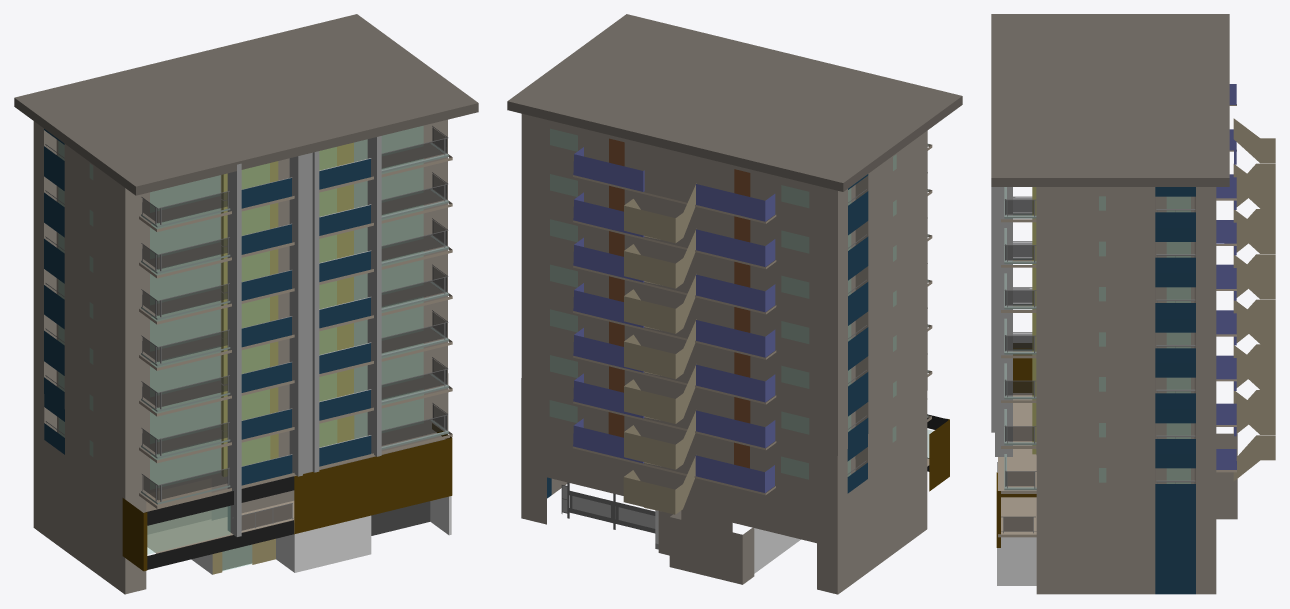
The model's file is Apartment_Axion_middle.fbx.
3 renders of one model, left to right at view 1: azimuth 30°, elevation 25°; view 2: azimuth 150°, elevation 25°; view 3: azimuth 270°, elevation 25°, orthographic. The views are drawn at different scales.
Visible parts, largest first — view 1: Mansion_Axion_Mid; view 2: Mansion_Axion_Mid; view 3: Mansion_Axion_Mid.
Part boxes in pixels (x1,y1,x2,y2): Mansion_Axion_Mid: [14, 14, 478, 594]; Mansion_Axion_Mid: [507, 14, 962, 594]; Mansion_Axion_Mid: [991, 14, 1275, 594].
Bounding box in the file's own units: 1912 × 2302 × 1402.
